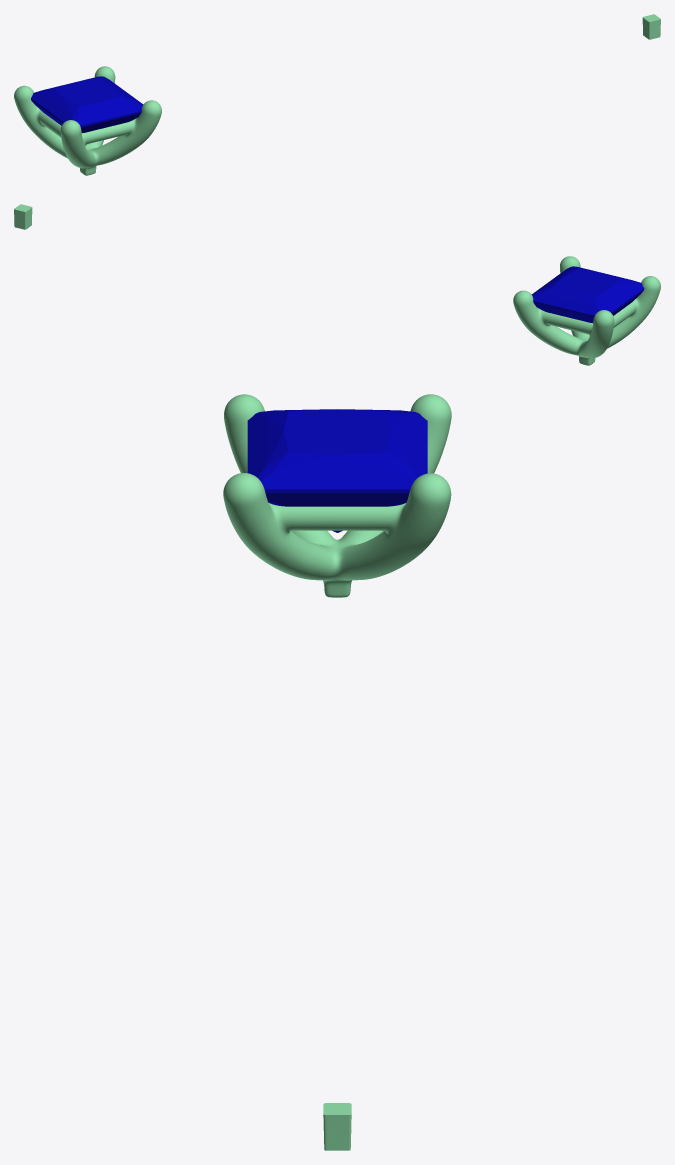
The model's file is Princess.glb.
3 renders of one model, top to bottom at view 1: azimuth 30°, elevation 25°; view 2: azimuth 150°, elevation 25°; view 3: azimuth 270°, elevation 25°, orthographic. The views are drawn at different scales.
Parts seen in each view (by area): view 1: /GSMOD388300- 4 PRONG_PRINCESS_IJ.3dm, Diamond_Princess; view 2: /GSMOD388300- 4 PRONG_PRINCESS_IJ.3dm, Diamond_Princess; view 3: /GSMOD388300- 4 PRONG_PRINCESS_IJ.3dm, Diamond_Princess.
Part boxes in pixels (<box>): /GSMOD388300- 4 PRONG_PRINCESS_IJ.3dm: <box>14,14,660,175</box>; Diamond_Princess: <box>31,76,143,132</box>; /GSMOD388300- 4 PRONG_PRINCESS_IJ.3dm: <box>14,204,660,365</box>; Diamond_Princess: <box>531,266,644,322</box>; /GSMOD388300- 4 PRONG_PRINCESS_IJ.3dm: <box>223,394,451,1150</box>; Diamond_Princess: <box>247,409,427,532</box>.
Bounding box in the file's own units: 54.91 × 6.9 × 8.77.
